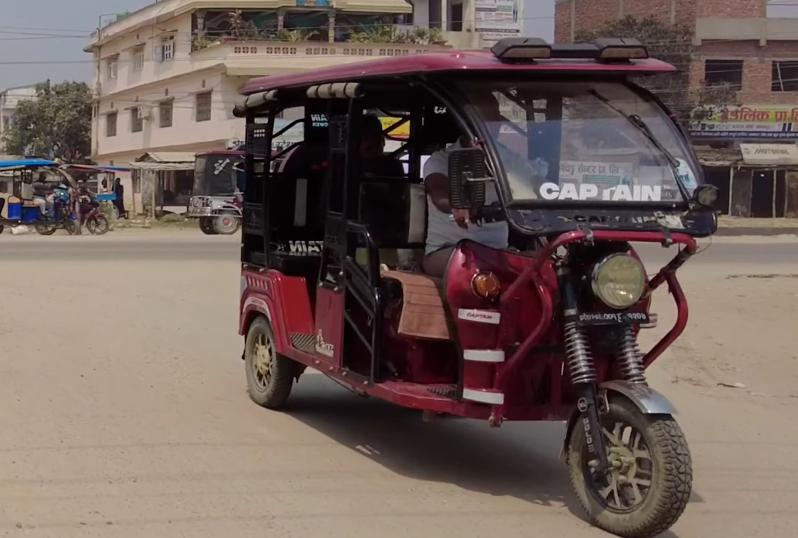e-rickshaw: (225, 29, 715, 538), (187, 143, 245, 235)
